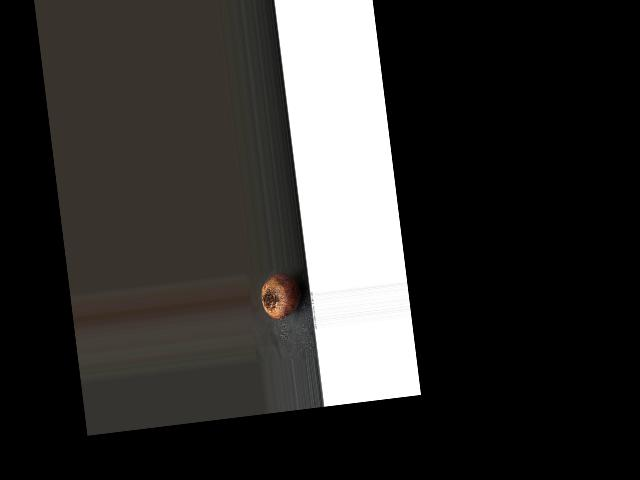beet: (259, 269, 303, 320)
